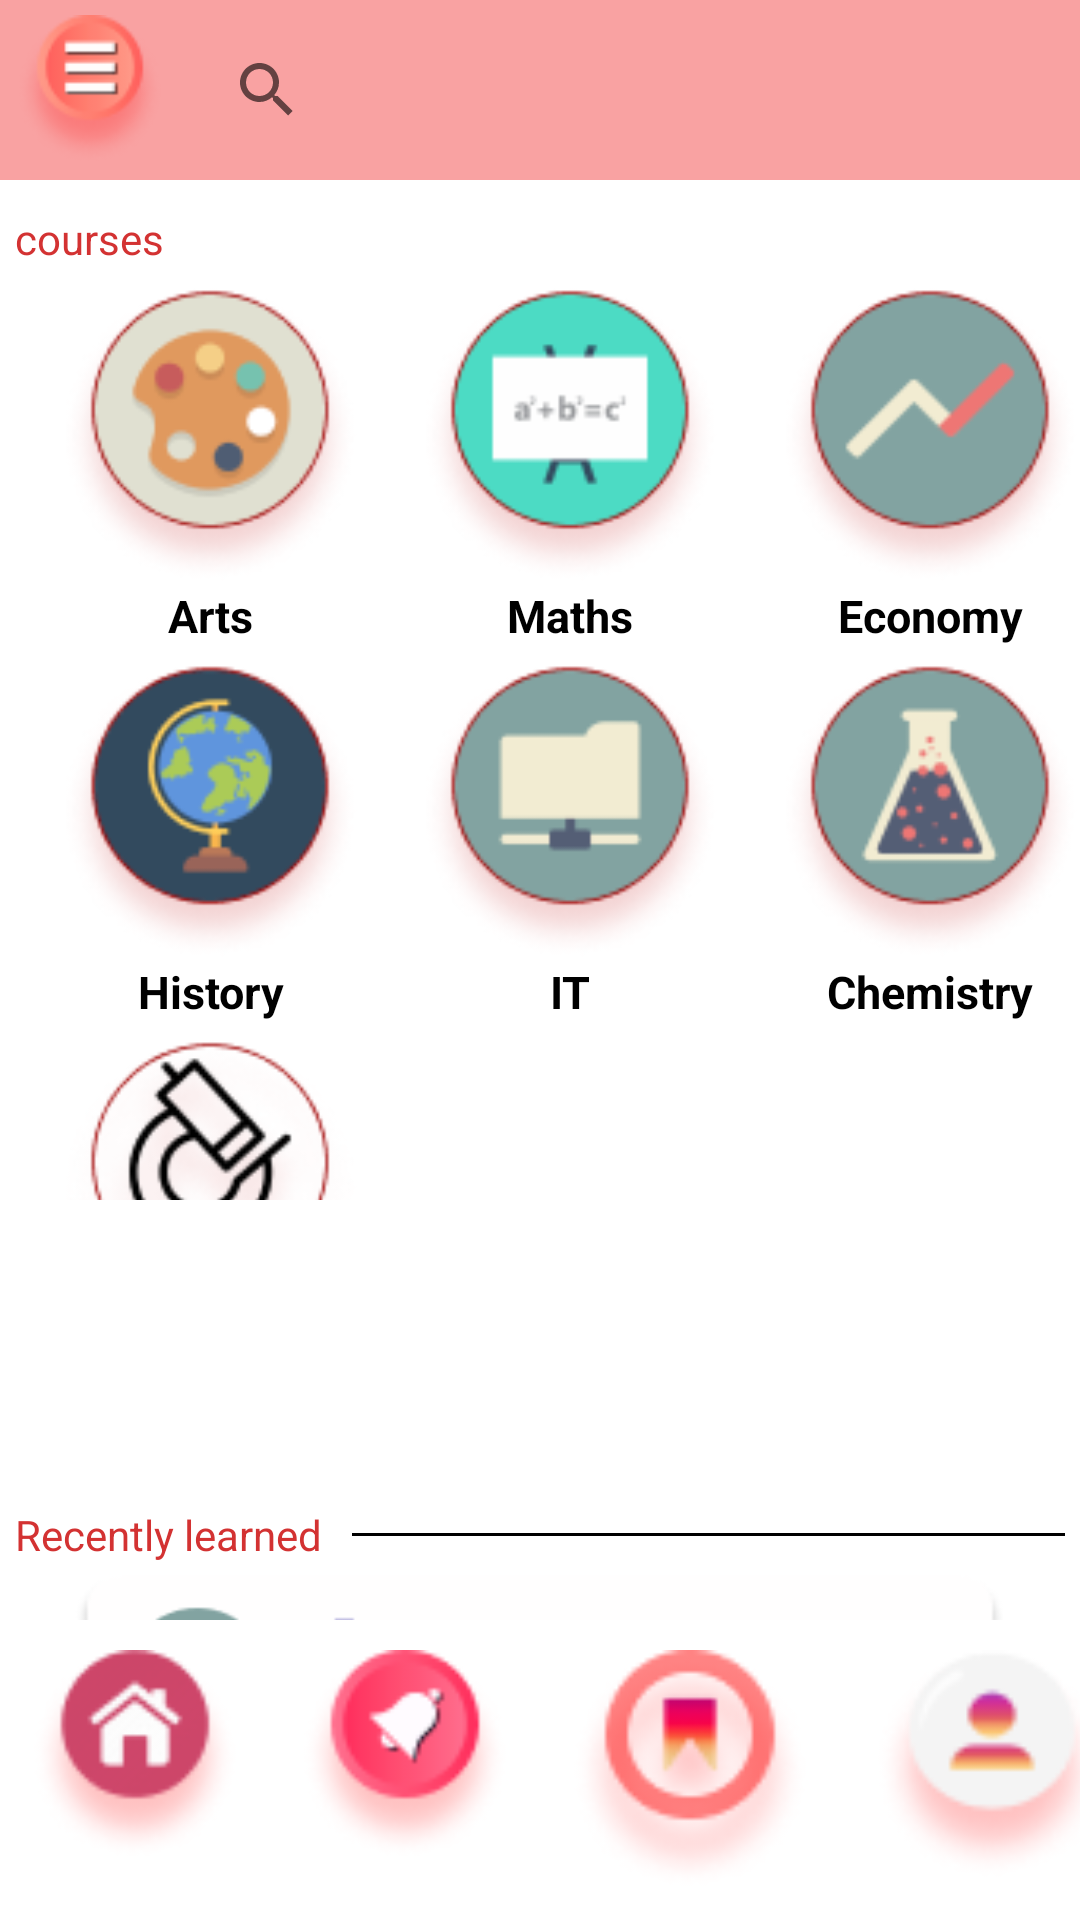

Where to tap for icons on this 1080×1920 app screen, as point (x, y):
menu: point (90, 77)
noti: point (405, 1741)
